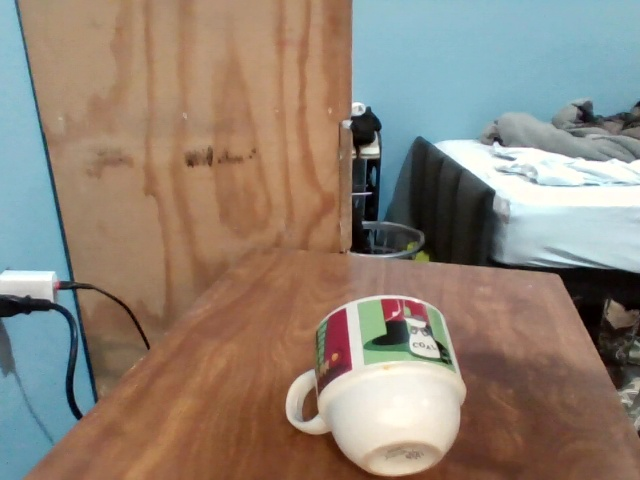taza: (286, 295, 464, 476)
